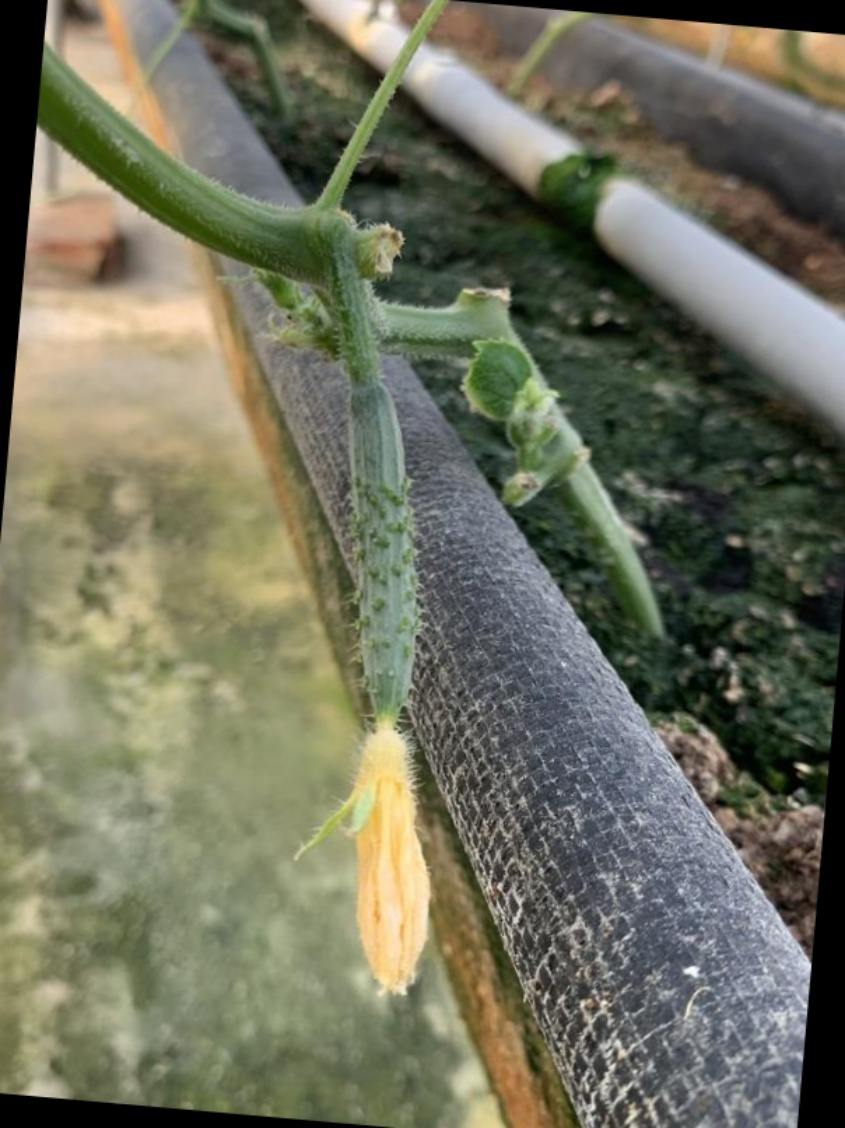bear: (233, 307, 489, 1029)
